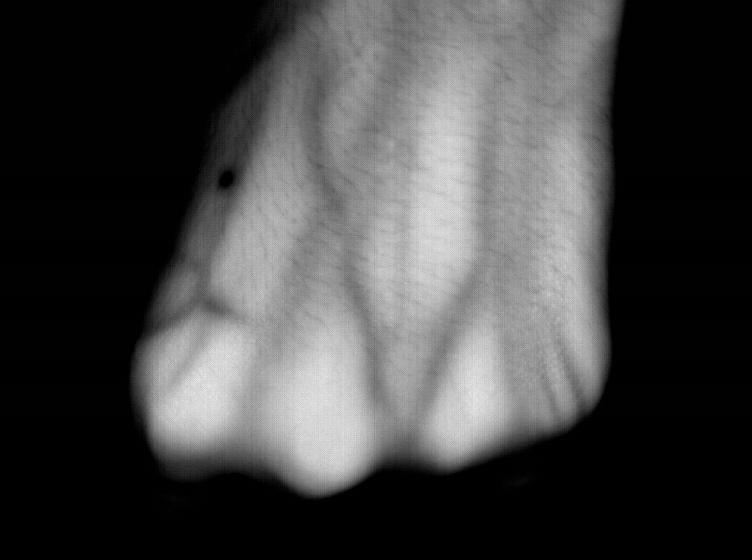Vein: (303, 78, 386, 399), (420, 99, 501, 396)
